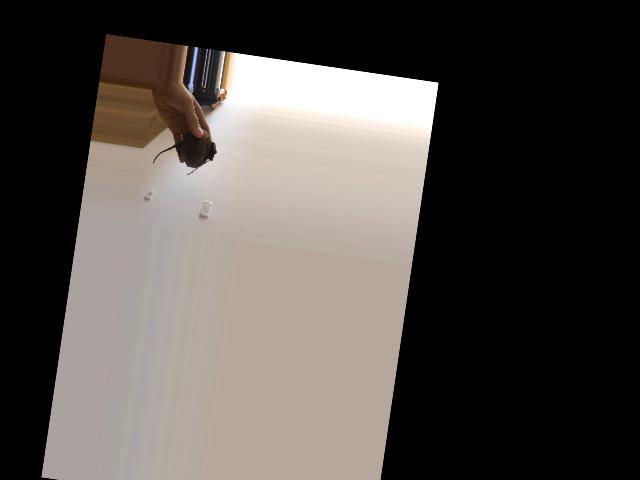beet: (151, 122, 219, 179)
